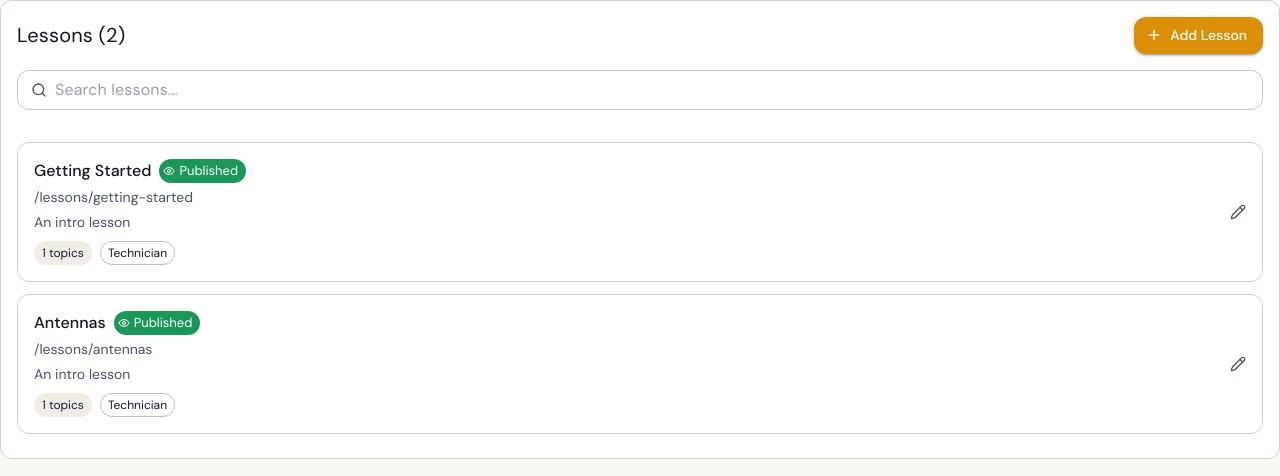
it: AdminLessons › list › filters by title, slug and description
Type "anten" into the field labelled "Search lessons..." at (659, 90), box [55,70,1263,110]
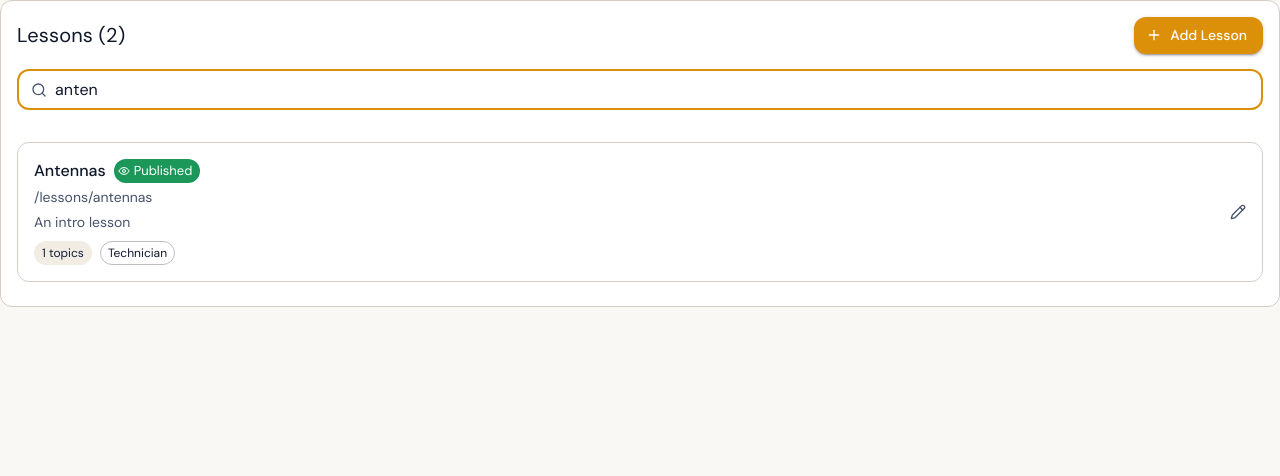
Expected: the heading "Antennas" is shown, [34,158,106,182]
Now the button "Getting Started" is gone
